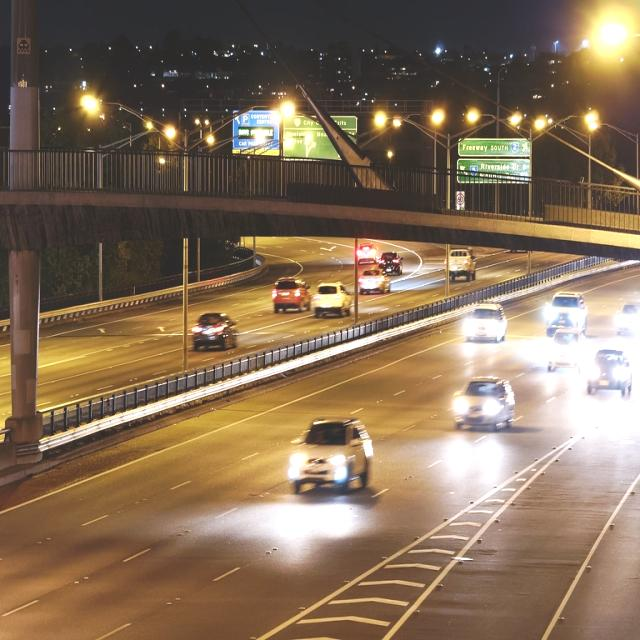Carro Branco: (285, 416, 376, 494), (465, 300, 509, 348), (312, 279, 354, 321)
Carro Prata: (451, 374, 518, 432)
Carro Preto: (585, 346, 637, 404), (190, 310, 244, 352)
Carro Vermelho: (269, 272, 315, 316)
